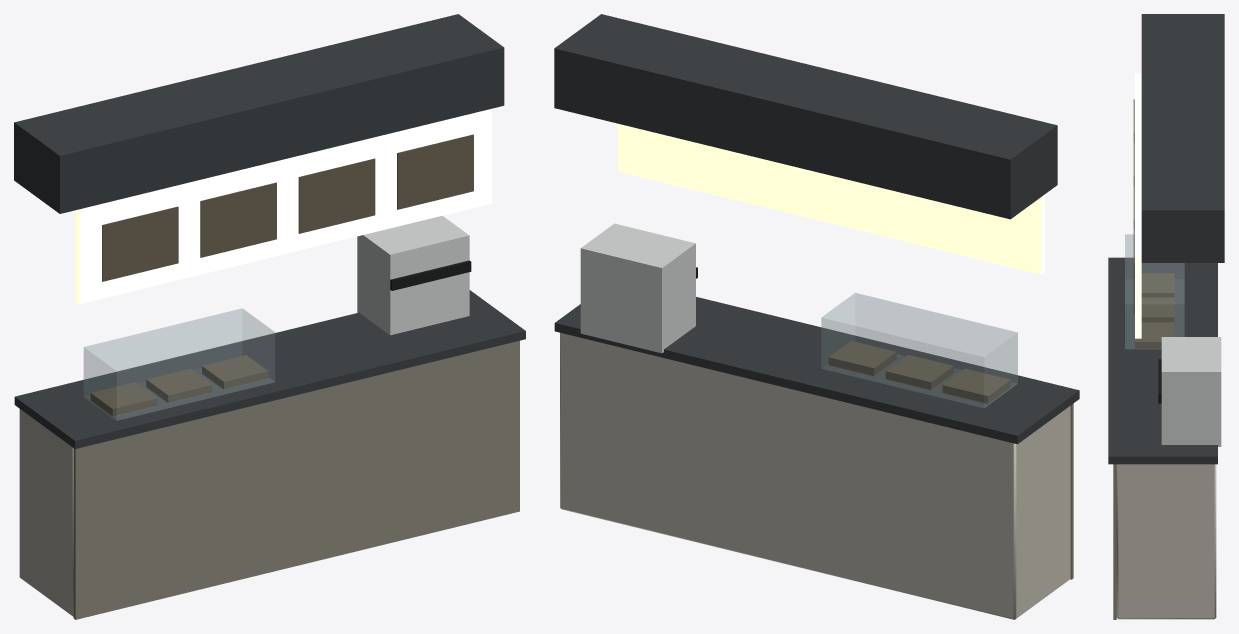
Rendered from food_stall.glb.
The picture shows the model from 3 angles, left to right: view 1: azimuth 30°, elevation 25°; view 2: azimuth 150°, elevation 25°; view 3: azimuth 270°, elevation 25°; orthographic projection. The views are drawn at different scales.
Parts seen in each view (by area): view 1: FoodStall; view 2: FoodStall; view 3: FoodStall.
Boxes of the visible parts, x1=… form: FoodStall: x1=14, y1=14, x2=525, y2=619; FoodStall: x1=554, y1=14, x2=1079, y2=619; FoodStall: x1=1108, y1=14, x2=1224, y2=619.
Bounding box in the file's own units: 2.84 × 2.72 × 0.7.
